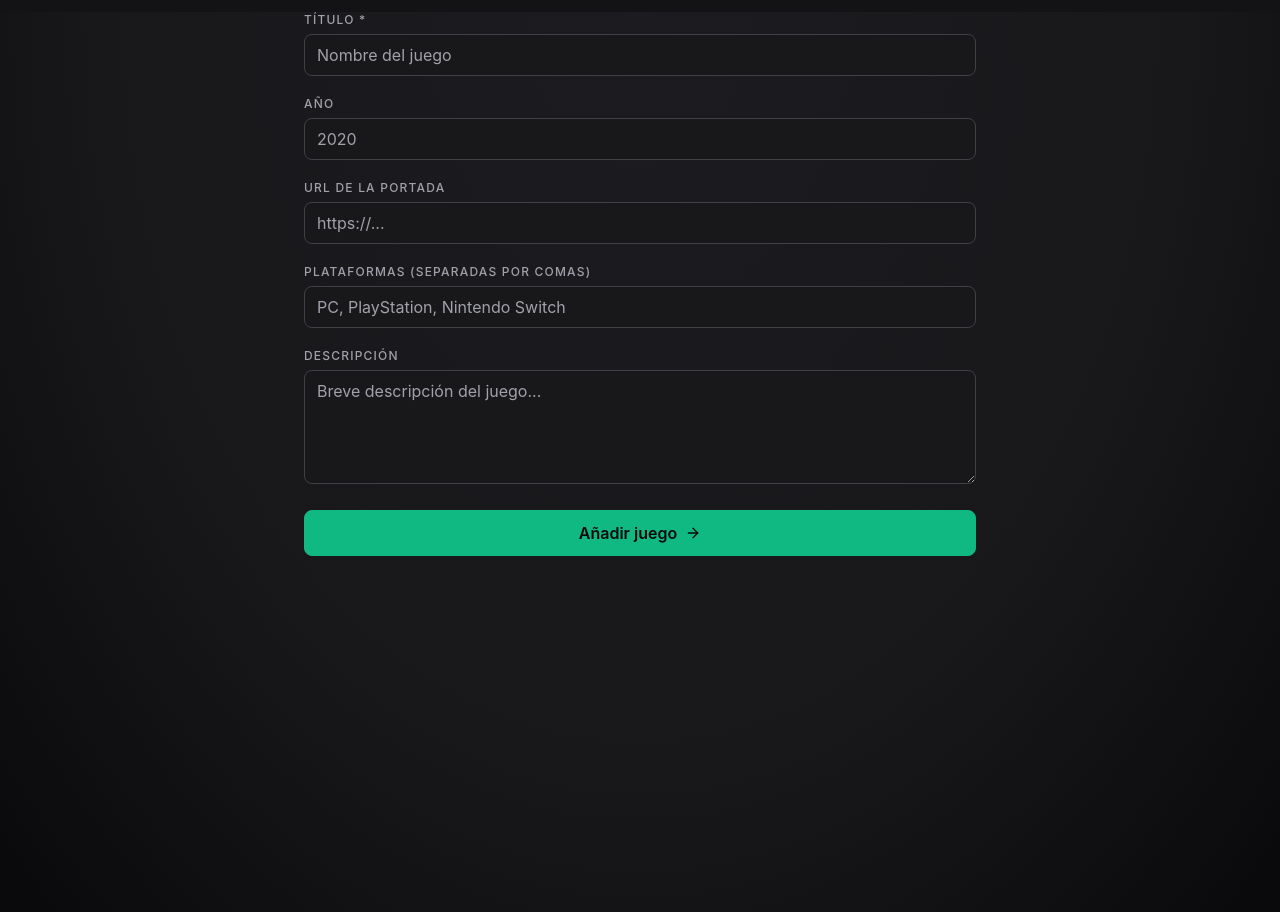
Test: AddGameForm › muestra error para URL de portada inválida
Type "Juego" into the field labelled "Título *" at (640, 55), box x1=304 y1=34 x2=976 y2=76
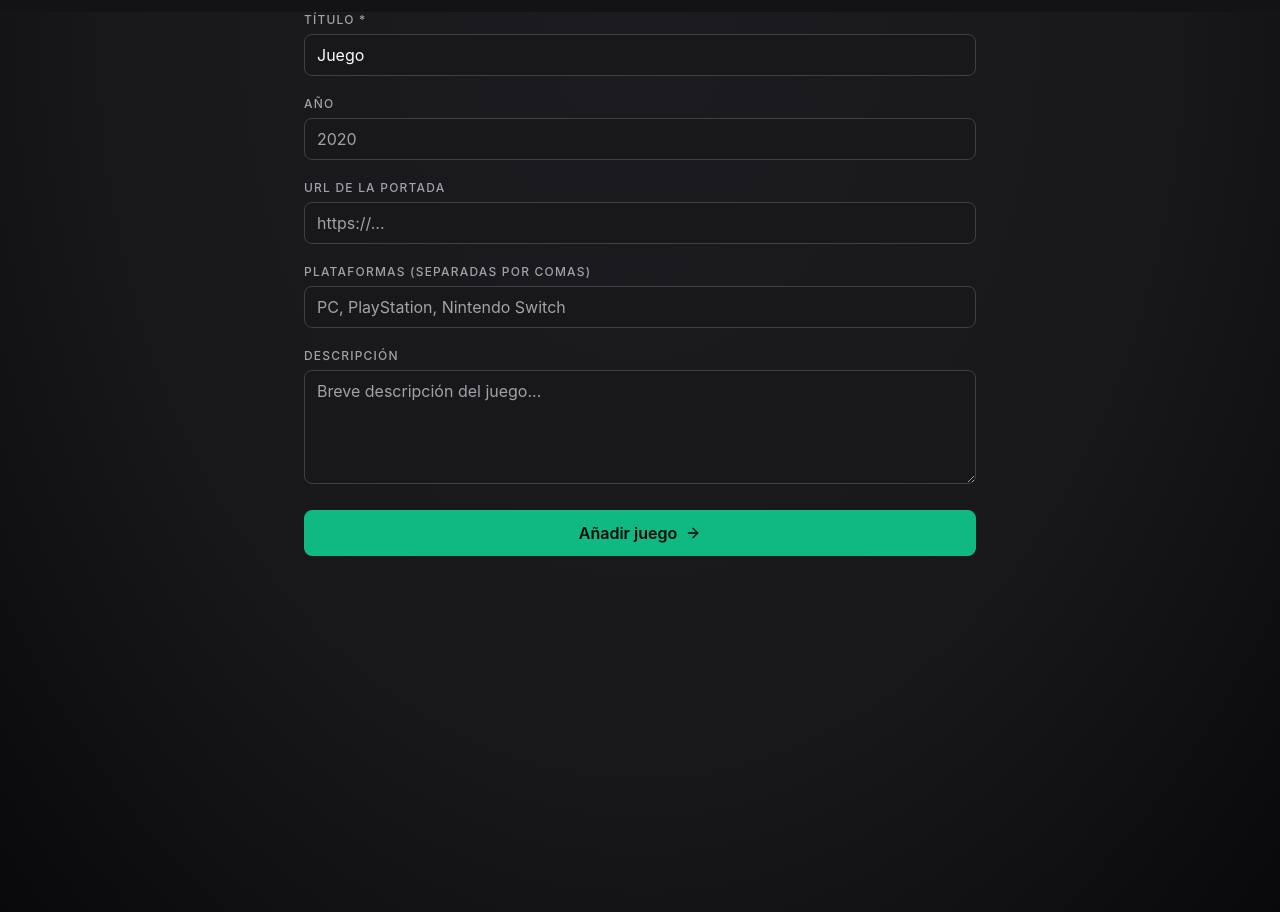
Type "no-es-url" into the field labelled "URL de la portada" at (640, 223), box x1=304 y1=202 x2=976 y2=244
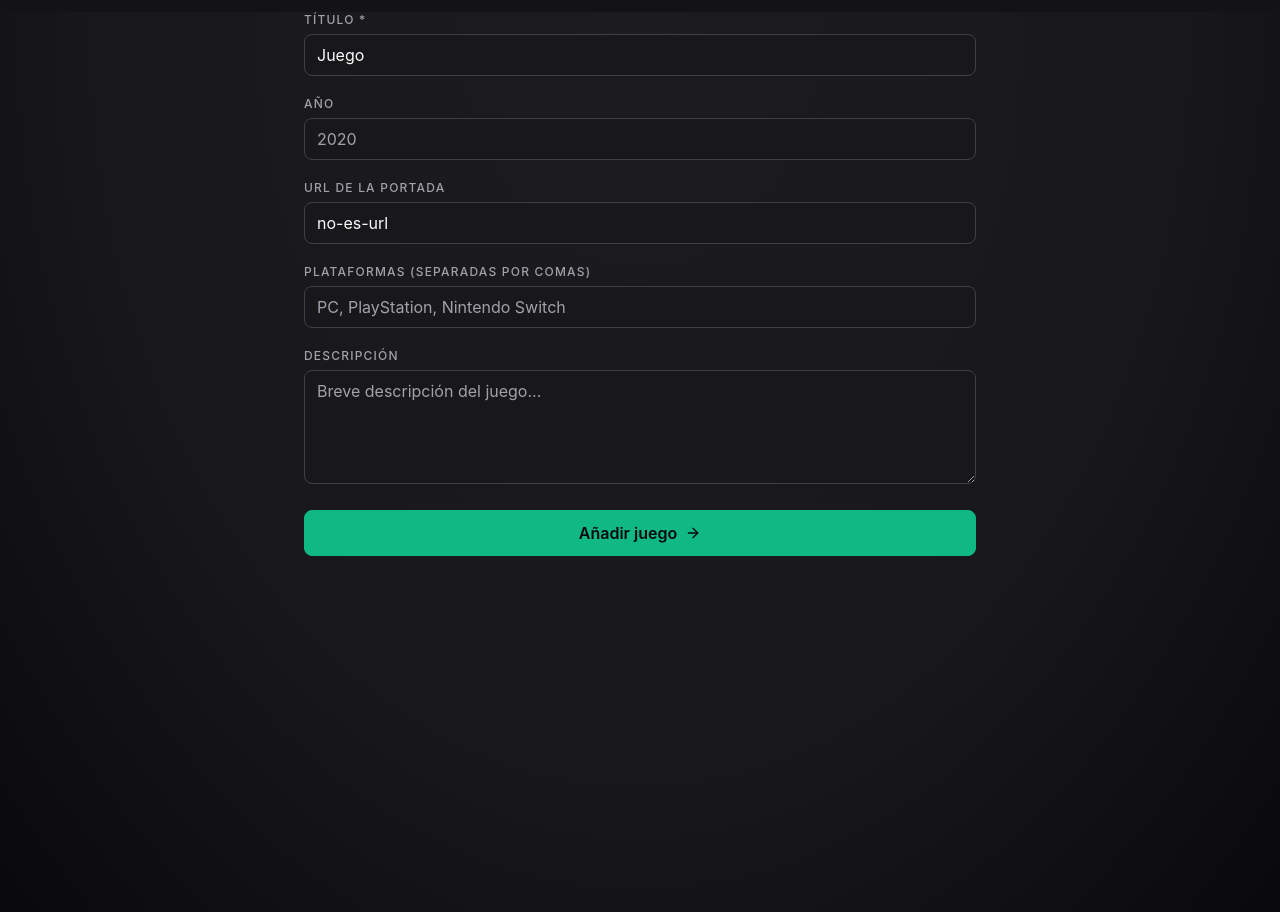
Submit the form named "añadir juego", box x1=304 y1=12 x2=976 y2=556
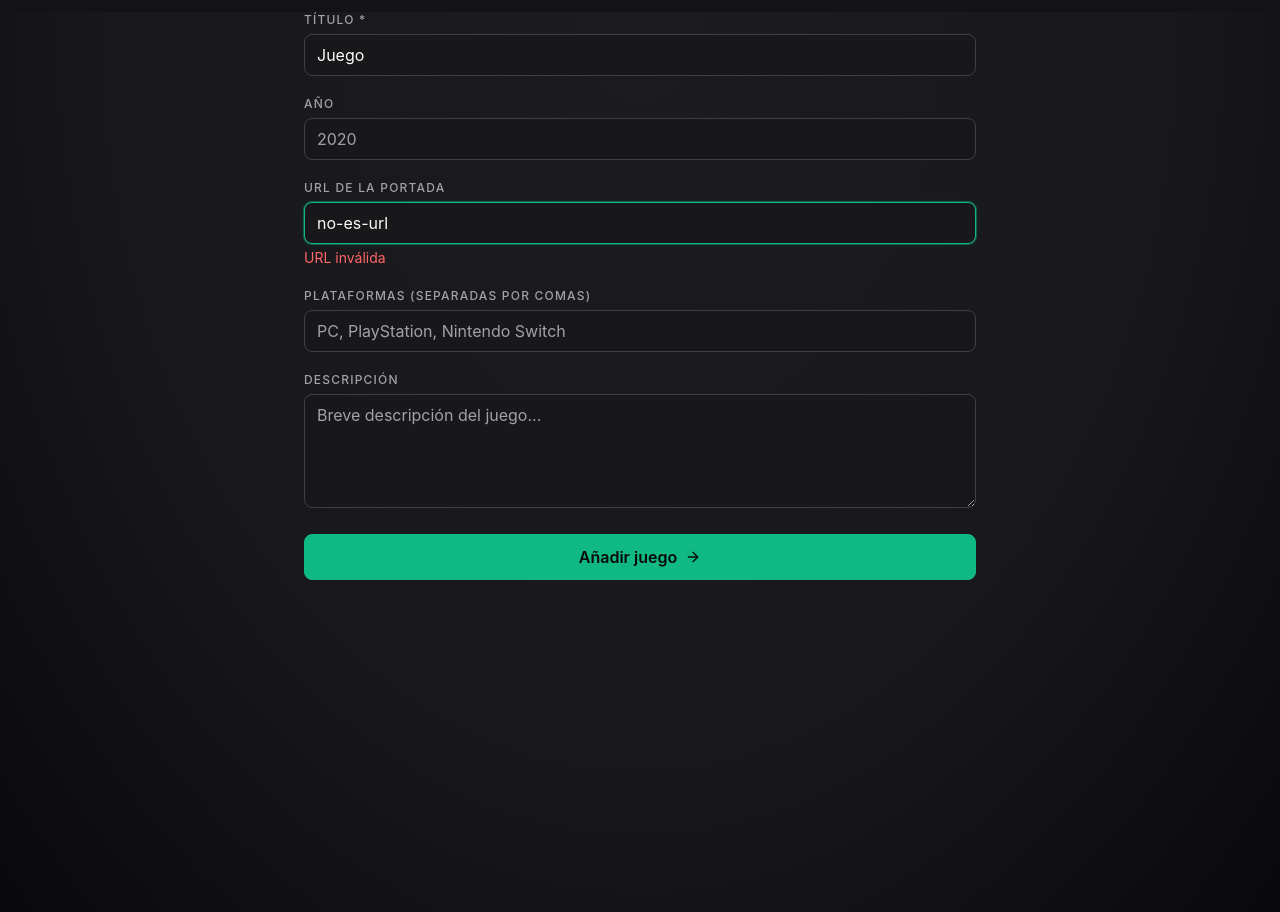
Expected: the text "URL inválida" is shown, x1=304 y1=249 x2=386 y2=266
